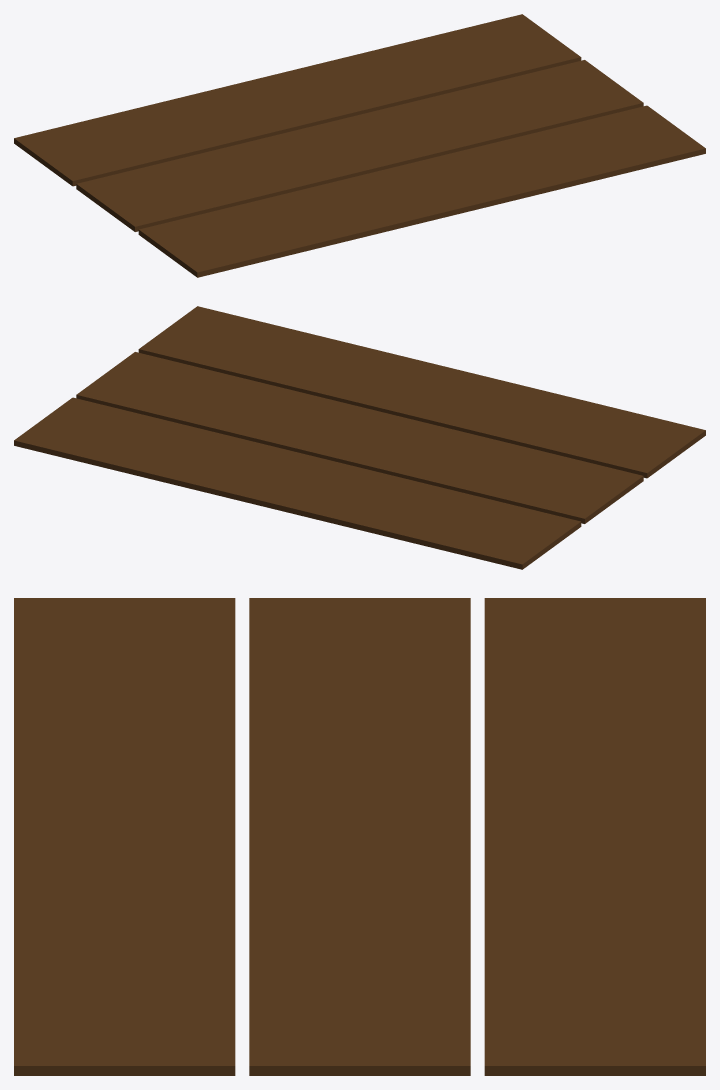
The model's file is Planks.gltf.
3 views of the same model, one above another, from view 1: azimuth 30°, elevation 25°; view 2: azimuth 150°, elevation 25°; view 3: azimuth 270°, elevation 25° (orthographic). The views are drawn at different scales.
Visible parts, largest first — view 1: Plank, Plank.001, Plank.002; view 2: Plank.001, Plank, Plank.002; view 3: Plank.001, Plank, Plank.002.
Part boxes in pixels (left/top/right/bottom): Plank: left=138, top=105, right=705, bottom=277; Plank.001: left=14, top=14, right=581, bottom=186; Plank.002: left=76, top=60, right=643, bottom=231; Plank.001: left=14, top=397, right=581, bottom=569; Plank: left=138, top=306, right=705, bottom=478; Plank.002: left=76, top=352, right=643, bottom=523; Plank.001: left=484, top=598, right=705, bottom=1075; Plank: left=14, top=598, right=235, bottom=1075; Plank.002: left=249, top=598, right=470, bottom=1075.
Bounding box in the file's own units: 20 × 0.2 × 12.5.
